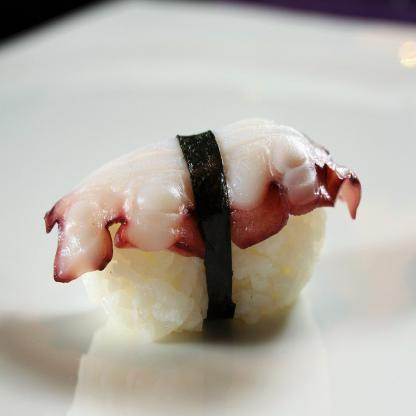tako: (38, 115, 371, 361)
